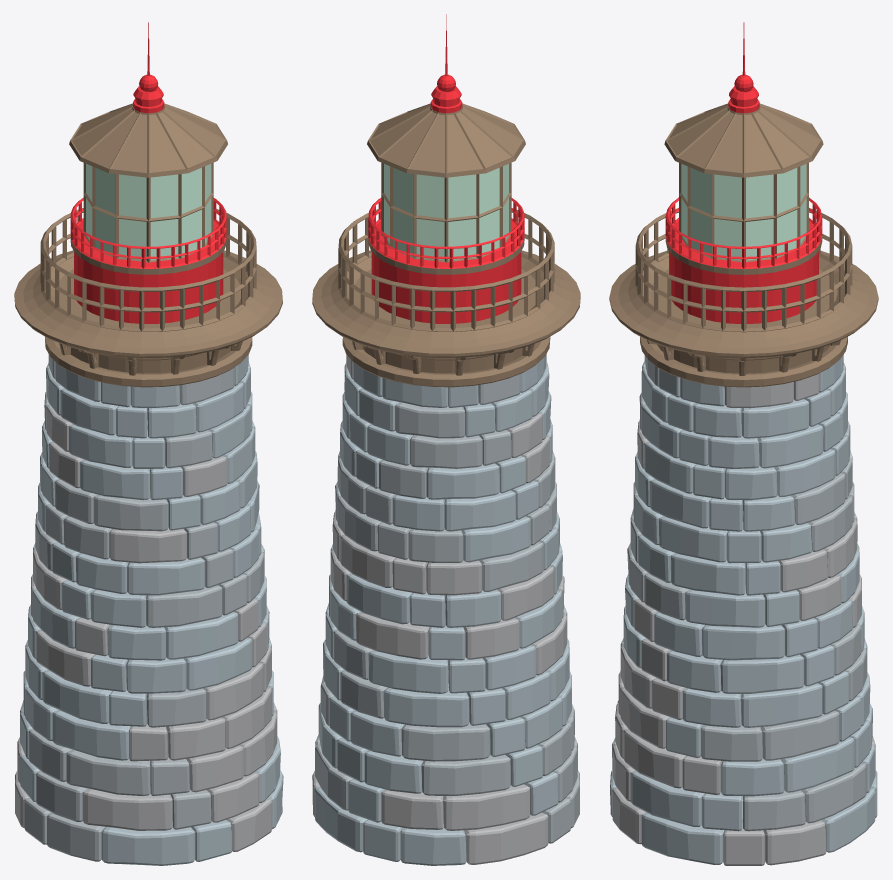
Rendered from Lighthouse_Tower.fbx.
The picture shows the model from 3 angles, left to right: view 1: azimuth 30°, elevation 25°; view 2: azimuth 150°, elevation 25°; view 3: azimuth 270°, elevation 25°; orthographic projection.
Parts seen in each view (by area): view 1: Tower Base.179; view 2: Tower Base.179; view 3: Tower Base.179.
Part boxes in pixels (box(x1,y1,x2,y2)): Tower Base.179: box(14, 22, 283, 865); Tower Base.179: box(312, 14, 580, 865); Tower Base.179: box(609, 22, 878, 865).
Size of the model in its own units: 1518 by 4962 by 1518.
